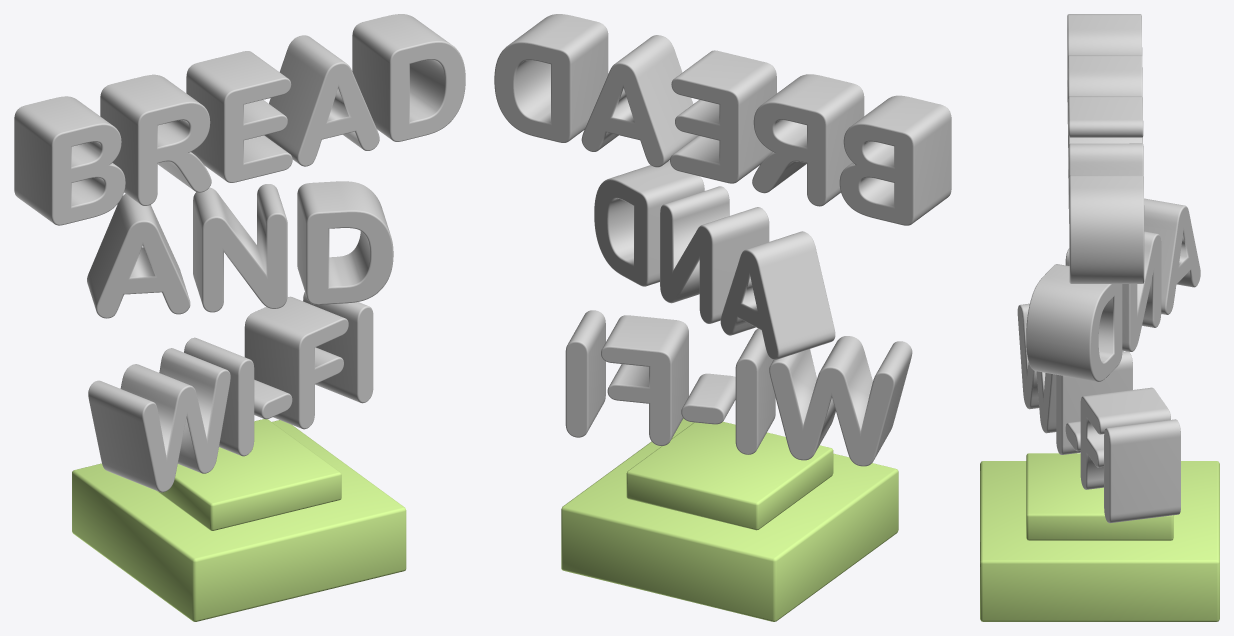
File: breadandwifi.gltf
The picture shows the model from 3 angles, left to right: view 1: azimuth 30°, elevation 25°; view 2: azimuth 150°, elevation 25°; view 3: azimuth 270°, elevation 25°; orthographic projection. The views are drawn at different scales.
Parts seen in each view (by area): view 1: Text.001, Cube.003, Text, Text.002; view 2: Text.001, Cube.003, Text, Text.002; view 3: Cube.003, Text.001, Text, Text.002.
Boxes of the visible parts, x1,y1,x2,y2 form: Text.001: [14, 14, 465, 225]; Cube.003: [72, 419, 406, 621]; Text: [88, 292, 373, 492]; Text.002: [87, 181, 393, 318]; Text.001: [494, 14, 951, 225]; Cube.003: [561, 418, 898, 621]; Text: [565, 310, 912, 466]; Text.002: [594, 161, 835, 359]; Cube.003: [980, 453, 1219, 621]; Text.001: [1067, 14, 1144, 283]; Text: [1017, 303, 1180, 523]; Text.002: [1026, 198, 1200, 381].
Size of the model in its own units: 3.17 by 3.5 by 1.63.
